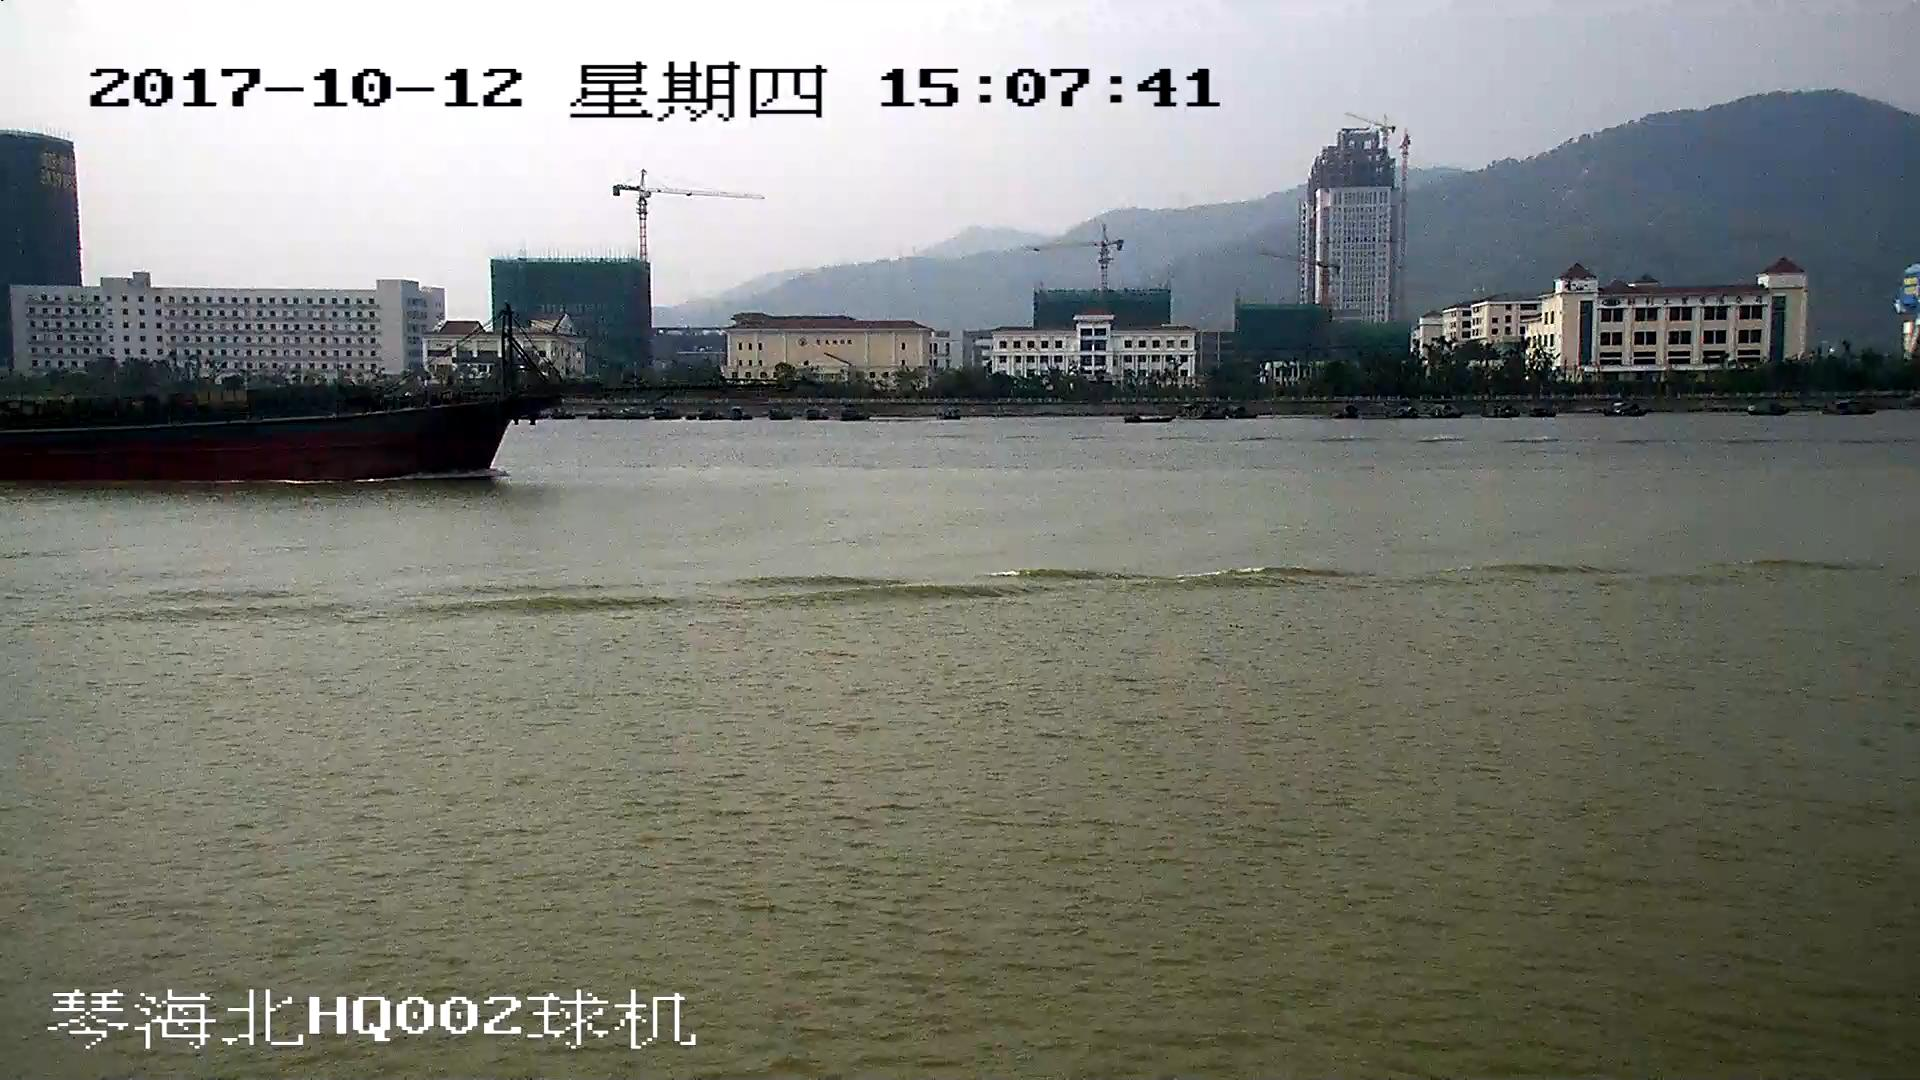bulk cargo carrier: (1, 308, 649, 482)
